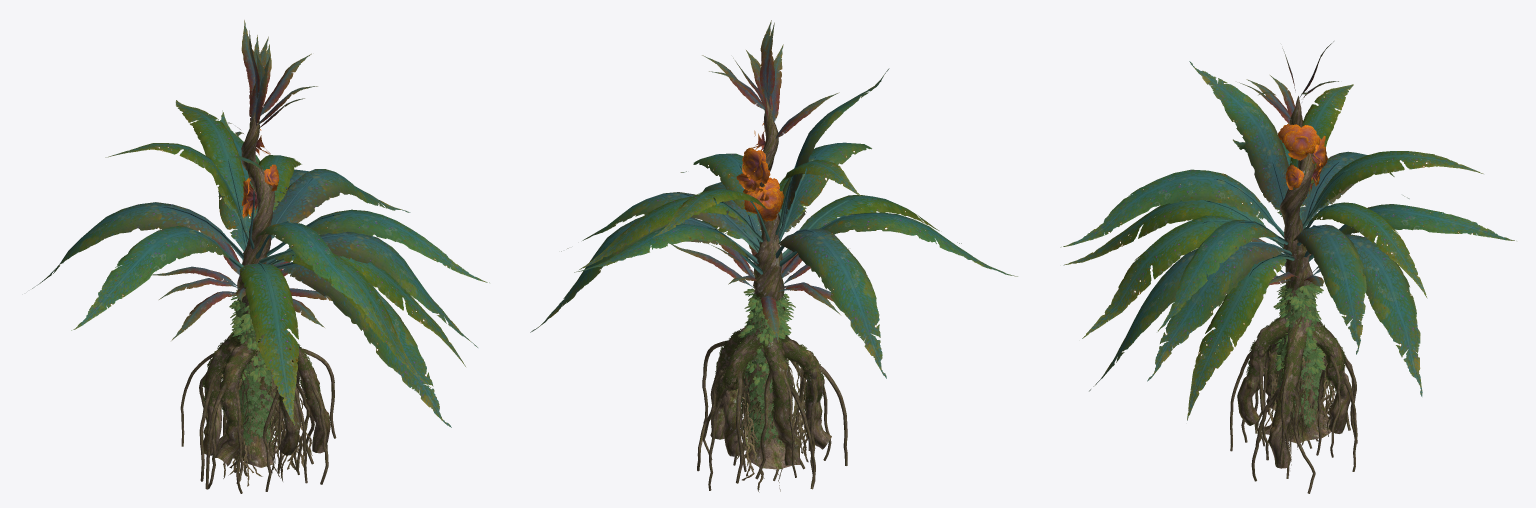
Rendered from Tree - Alien Tree 01 2-DKBTAsEe.glb.
3 views of the same model, side by side, from view 1: azimuth 30°, elevation 25°; view 2: azimuth 150°, elevation 25°; view 3: azimuth 270°, elevation 25° (orthographic). The views are drawn at different scales.
Parts seen in each view (by area): view 1: Tree_02(Clone), Tree_02_Plants(Clone); view 2: Tree_02(Clone), Tree_02_Plants(Clone); view 3: Tree_02(Clone), Tree_02_Plants(Clone).
Part boxes in pixels (x1,y1,x2,y2): Tree_02(Clone): (32, 20, 489, 493); Tree_02_Plants(Clone): (202, 290, 320, 457); Tree_02(Clone): (530, 20, 1017, 492); Tree_02_Plants(Clone): (714, 288, 824, 451); Tree_02(Clone): (1060, 41, 1514, 493); Tree_02_Plants(Clone): (1246, 281, 1345, 436).
Bounding box in the file's own units: 11.12 × 11.94 × 11.23.
Materials: 2 (2 with a texture image).
